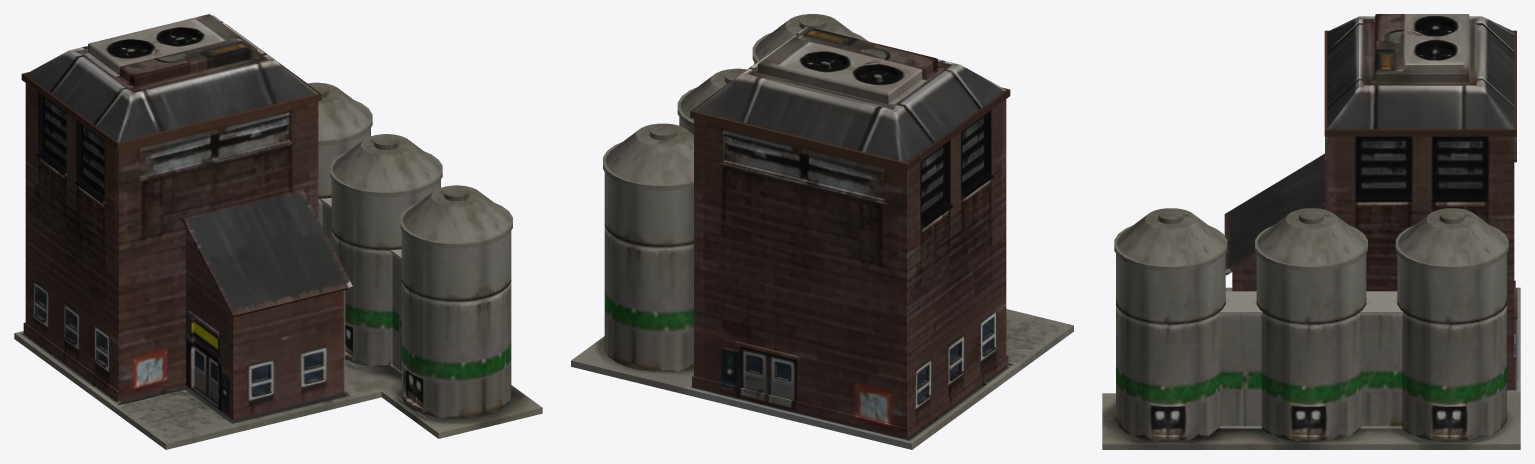
Rendered from chemicalplant_cad.glb.
3 views of the same model, side by side, from view 1: azimuth 30°, elevation 25°; view 2: azimuth 150°, elevation 25°; view 3: azimuth 270°, elevation 25° (orthographic). The views are drawn at different scales.
Visible parts, largest first — view 1: ChemicalPlant; view 2: ChemicalPlant; view 3: ChemicalPlant.
Part boxes in pixels (left/top/right/bottom): ChemicalPlant: left=14, top=14, right=542, bottom=449; ChemicalPlant: left=571, top=14, right=1073, bottom=449; ChemicalPlant: left=1102, top=14, right=1520, bottom=449.
Size of the model in its own units: 16.19 by 14.65 by 18.29.
1 material, 1 textured.
